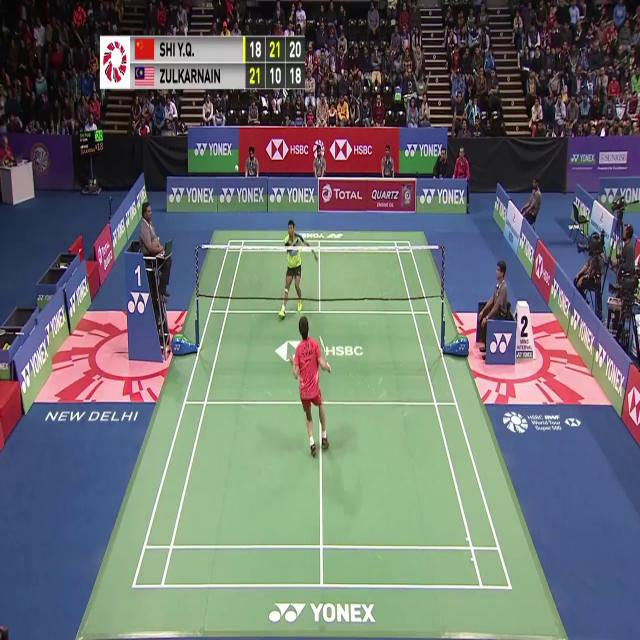Shuttlecock: (233, 160, 240, 172)
